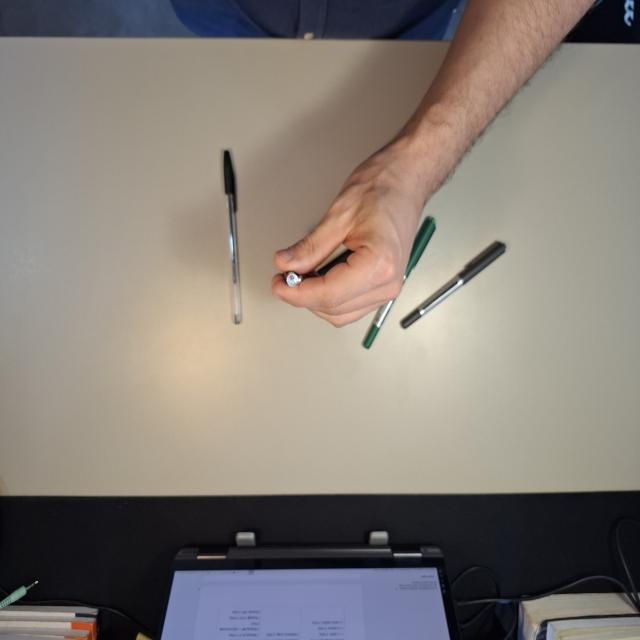glove_off: (270, 129, 431, 330)
